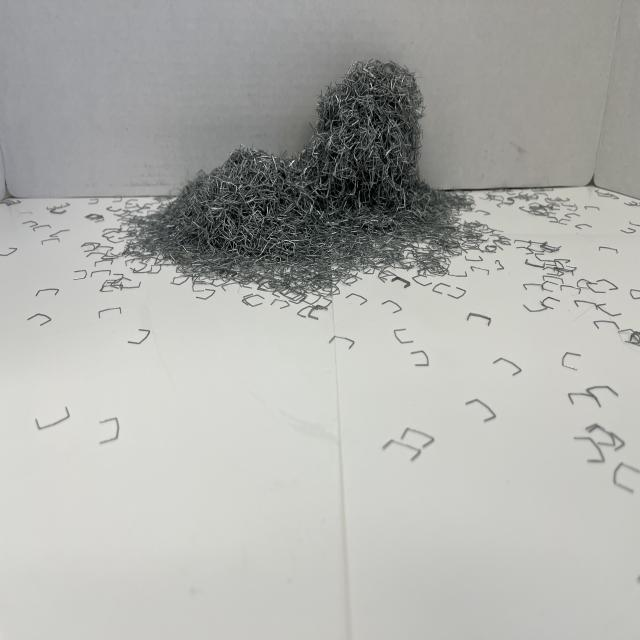staples: (122, 56, 479, 301)
